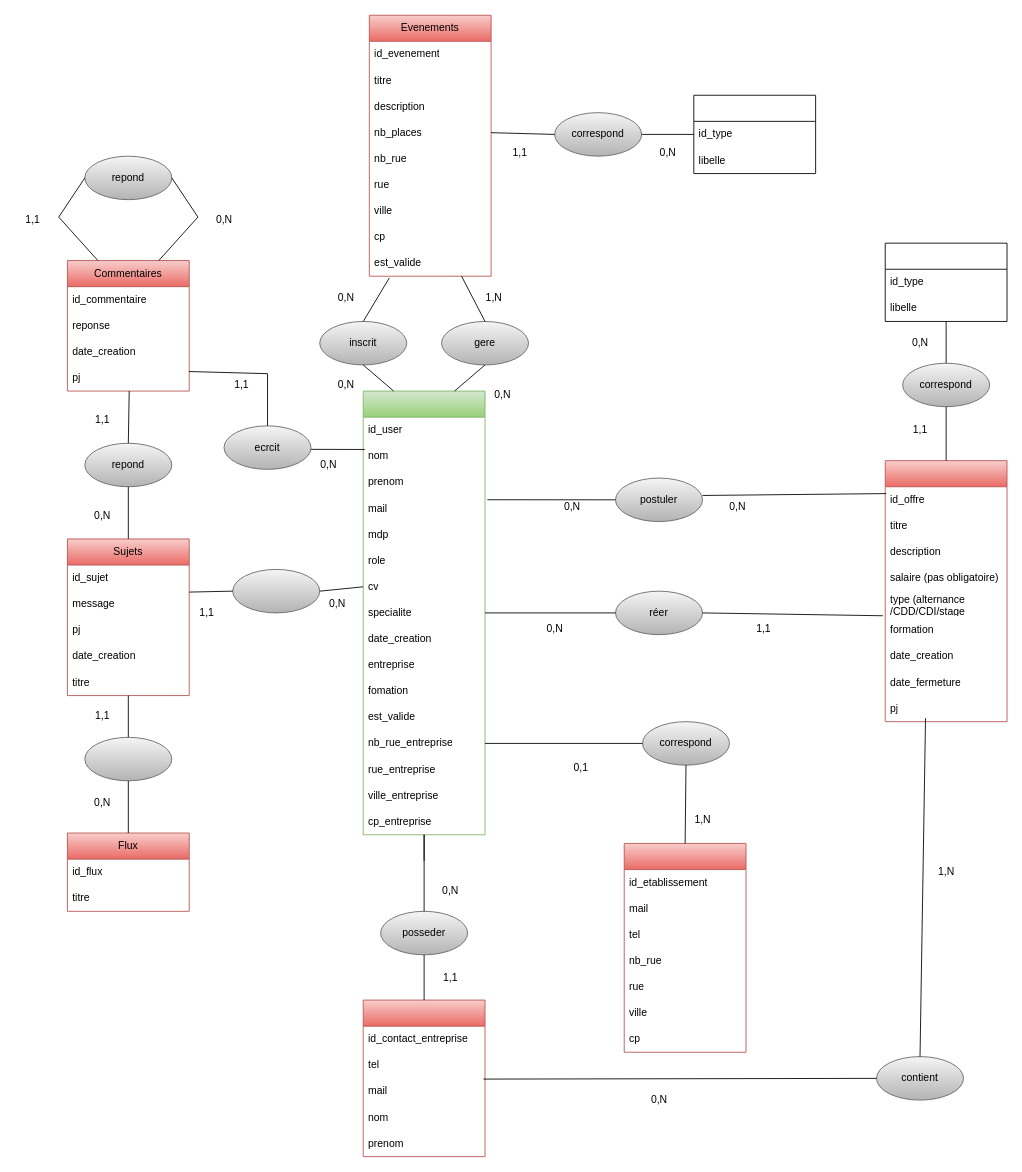
The diagram is 1022 pixels wide and 1172 high, and some of its shapes have lost their labels. Here are the shapes that lost their labels. From the top down, the box of each, then its label:
(693, 94, 816, 174): TypesEvenements
(884, 242, 1007, 321): TypesOffres
(232, 569, 320, 613): poste
(884, 460, 1007, 722): Offres
(362, 390, 485, 835): Users
(84, 736, 172, 781): concerne
(623, 843, 746, 1052): Etablissements
(362, 999, 485, 1157): ContactsEntreprises
